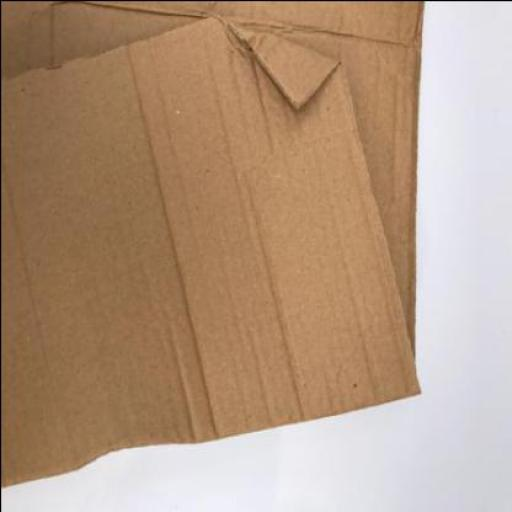cardboard: (0, 2, 425, 488)
